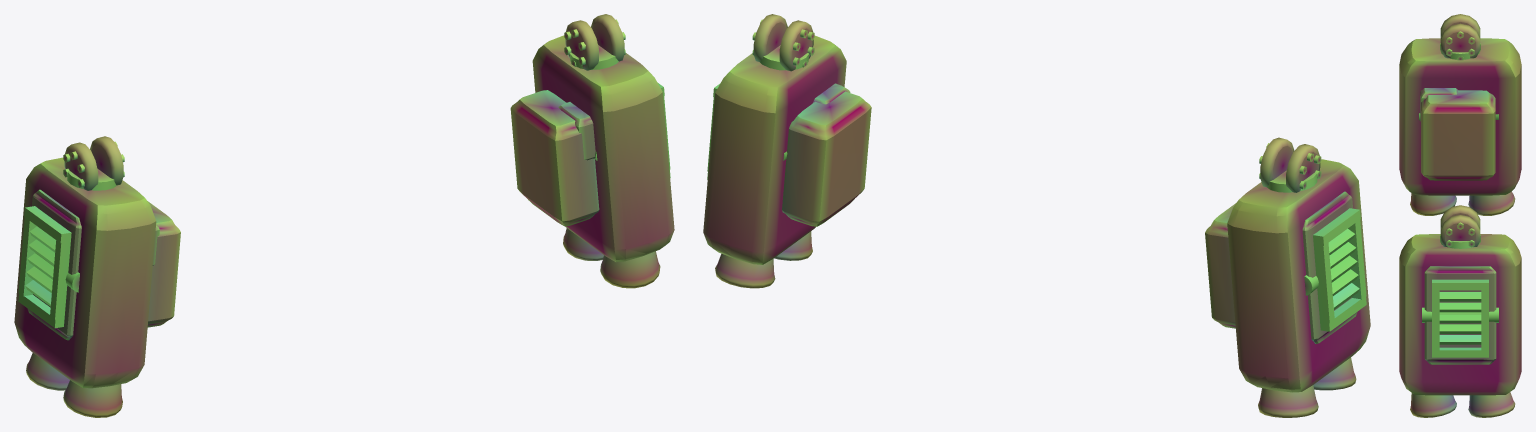
File: llm_gen_leg_thrusters_102_28206a.glb
The picture shows the model from 3 angles, left to right: view 1: azimuth 30°, elevation 25°; view 2: azimuth 150°, elevation 25°; view 3: azimuth 270°, elevation 25°; orthographic projection. The views are drawn at different scales.
Parts seen in each view (by area): view 1: flare_cowling_main_0_titanium_silver_l, flare_cowling_main_0_titanium_silver_r, adapter_calf_clamp_r, adapter_sub_flare_louver_gold_3_dark_l, adapter_calf_clamp_l, adapter_sub_louver_frame_dark_1_adapter_dark_l, servo_5_servo_accent_r, servo_5_servo_accent_l, flare_bell_fwd_6_vernier_bell_vernier_l, flare_louver_gold_3_gold_l, flare_bell_fwd_6_vernier_bell_vernier_r, flare_bell_aft_7_vernier_bell_vernier_l (+2 smaller); view 2: flare_cowling_main_0_titanium_silver_l, flare_cowling_main_0_titanium_silver_r, adapter_calf_clamp_r, adapter_sub_flare_louver_gold_3_dark_l, adapter_calf_clamp_l, adapter_sub_louver_frame_dark_1_adapter_dark_l, servo_5_servo_accent_r, servo_5_servo_accent_l, flare_louver_gold_3_gold_l, flare_bell_aft_7_vernier_bell_vernier_l, flare_bell_aft_7_vernier_bell_vernier_r, flare_bell_fwd_6_vernier_bell_vernier_l (+1 smaller); view 3: flare_cowling_main_0_titanium_silver_r, flare_cowling_main_0_titanium_silver_l, adapter_calf_clamp_l, adapter_sub_louver_frame_dark_1_adapter_dark_r, adapter_sub_flare_louver_gold_3_dark_r, flare_louver_gold_3_gold_r, servo_5_servo_accent_l, servo_5_servo_accent_r, flare_bell_aft_7_vernier_bell_vernier_r, flare_bell_fwd_6_vernier_bell_vernier_r, flare_bell_aft_7_vernier_bell_vernier_l, flare_bell_fwd_6_vernier_bell_vernier_l (+6 smaller).
Part boxes in pixels (left/top/right/bottom): flare_cowling_main_0_titanium_silver_l: left=14, top=157, right=156, bottom=388; flare_cowling_main_0_titanium_silver_r: left=532, top=35, right=674, bottom=262; adapter_calf_clamp_r: left=510, top=90, right=599, bottom=226; adapter_sub_flare_louver_gold_3_dark_l: left=18, top=206, right=71, bottom=328; adapter_calf_clamp_l: left=147, top=201, right=180, bottom=327; adapter_sub_louver_frame_dark_1_adapter_dark_l: left=27, top=189, right=81, bottom=340; servo_5_servo_accent_r: left=565, top=14, right=624, bottom=70; servo_5_servo_accent_l: left=64, top=136, right=123, bottom=190; flare_bell_fwd_6_vernier_bell_vernier_l: left=63, top=380, right=122, bottom=417; flare_louver_gold_3_gold_l: left=25, top=226, right=56, bottom=306; flare_bell_fwd_6_vernier_bell_vernier_r: left=600, top=251, right=660, bottom=288; flare_bell_aft_7_vernier_bell_vernier_l: left=26, top=353, right=69, bottom=390; flare_cowling_main_0_titanium_silver_l: left=1227, top=159, right=1370, bottom=392; flare_cowling_main_0_titanium_silver_r: left=703, top=35, right=846, bottom=264; adapter_calf_clamp_r: left=782, top=91, right=871, bottom=226; adapter_sub_flare_louver_gold_3_dark_l: left=1313, top=208, right=1366, bottom=331; adapter_calf_clamp_l: left=1205, top=203, right=1235, bottom=328; adapter_sub_louver_frame_dark_1_adapter_dark_l: left=1302, top=191, right=1357, bottom=343; servo_5_servo_accent_r: left=753, top=14, right=813, bottom=71; servo_5_servo_accent_l: left=1260, top=137, right=1320, bottom=192; flare_louver_gold_3_gold_l: left=1328, top=228, right=1359, bottom=309; flare_bell_aft_7_vernier_bell_vernier_l: left=1258, top=385, right=1318, bottom=417; flare_bell_aft_7_vernier_bell_vernier_r: left=715, top=253, right=775, bottom=288; flare_bell_fwd_6_vernier_bell_vernier_l: left=1313, top=357, right=1356, bottom=390; flare_cowling_main_0_titanium_silver_r: left=1399, top=234, right=1521, bottom=395; flare_cowling_main_0_titanium_silver_l: left=1399, top=38, right=1521, bottom=195; adapter_calf_clamp_l: left=1421, top=90, right=1495, bottom=180; adapter_sub_louver_frame_dark_1_adapter_dark_r: left=1424, top=266, right=1496, bottom=364; adapter_sub_flare_louver_gold_3_dark_r: left=1432, top=279, right=1488, bottom=357; flare_louver_gold_3_gold_r: left=1439, top=292, right=1481, bottom=344; servo_5_servo_accent_l: left=1440, top=14, right=1480, bottom=58; servo_5_servo_accent_r: left=1440, top=205, right=1480, bottom=246; flare_bell_aft_7_vernier_bell_vernier_r: left=1468, top=392, right=1515, bottom=417; flare_bell_fwd_6_vernier_bell_vernier_r: left=1410, top=393, right=1456, bottom=417; flare_bell_aft_7_vernier_bell_vernier_l: left=1468, top=191, right=1515, bottom=215; flare_bell_fwd_6_vernier_bell_vernier_l: left=1410, top=193, right=1456, bottom=215.
Size of the model in its own units: 82 by 31.62 by 18.
